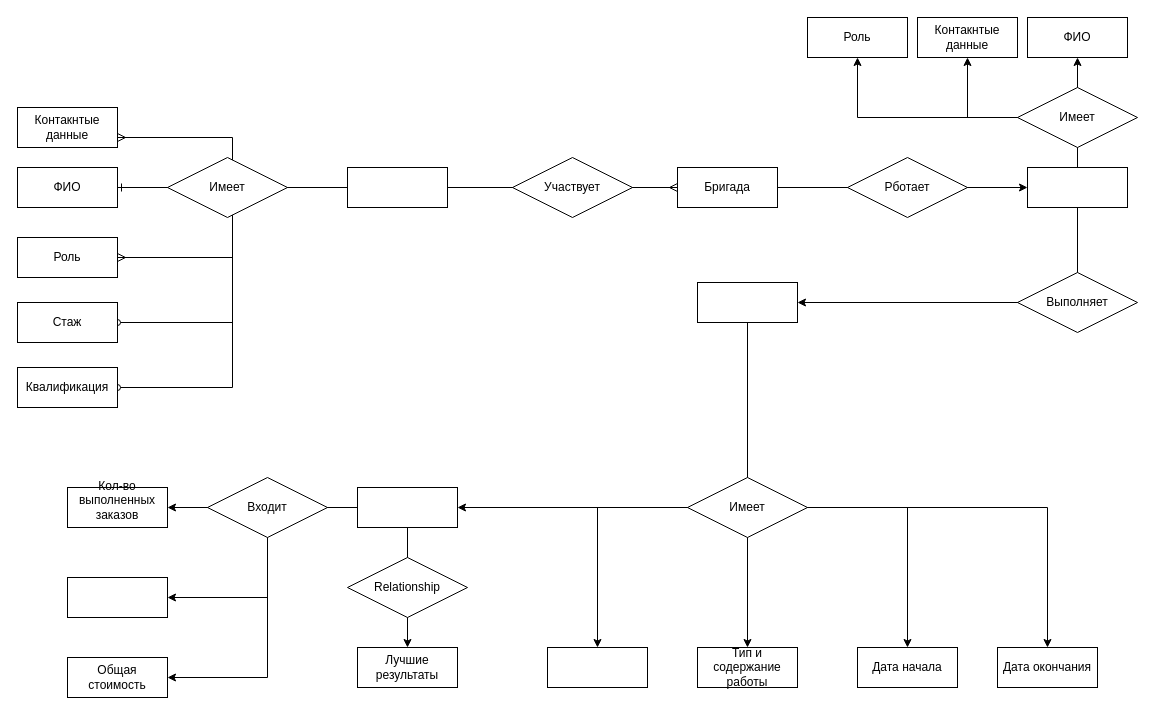
The diagram is 1155 pixels wide and 715 high, and some of its shapes have lost their labels. Each missing label, with the centre of its shape:
"Бригадир" belongs at [1077,187].
"Заказ" belongs at [747,302].
"Общая стоимоть" belongs at [117,597].
"Отчет" belongs at [407,507].
"Рабочий" belongs at [397,187].
"Стоимость заказа" belongs at [597,667].
